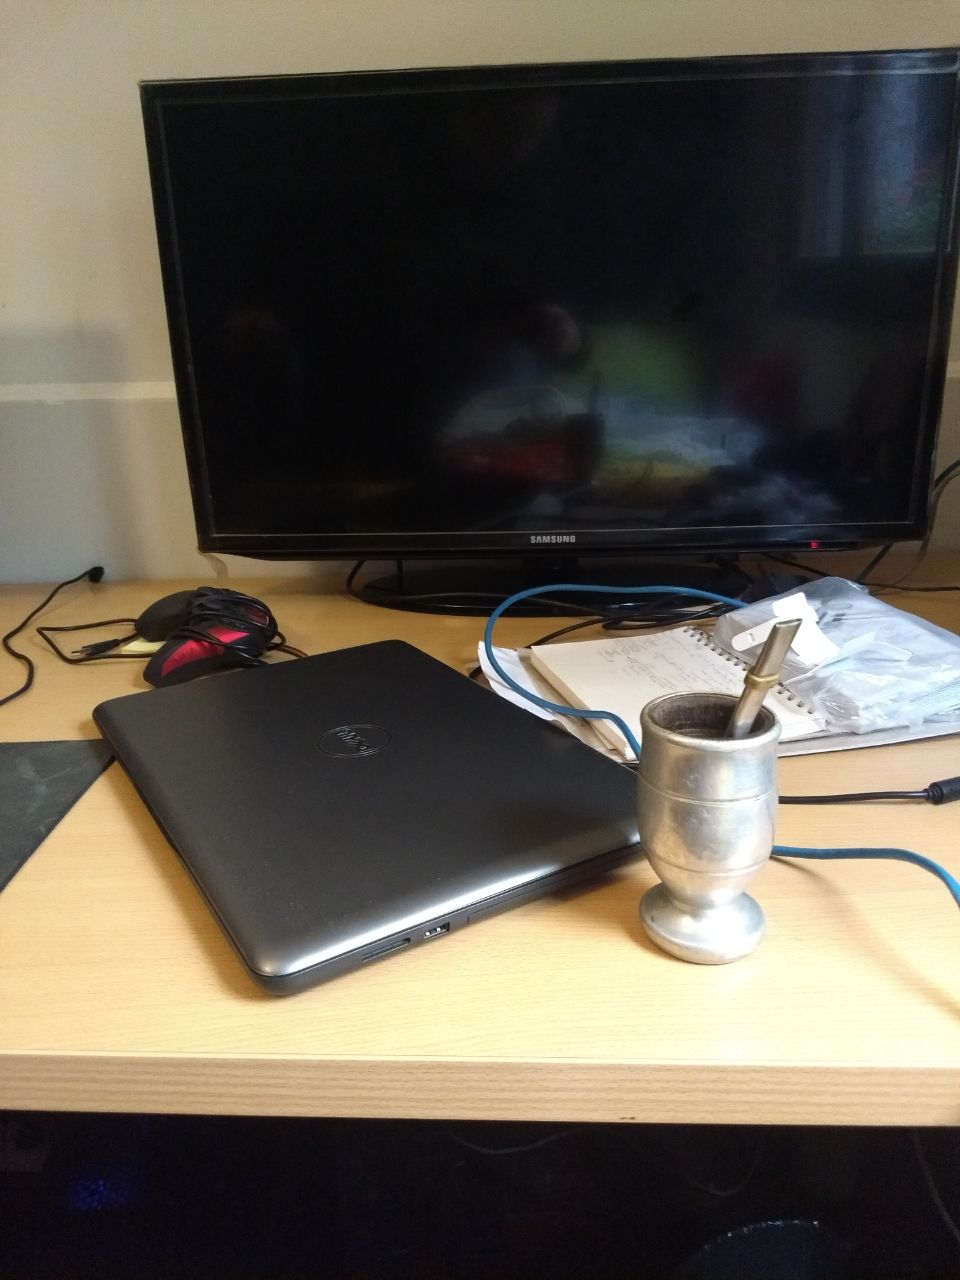mate: (628, 614, 810, 970)
metal: (626, 612, 808, 968)
